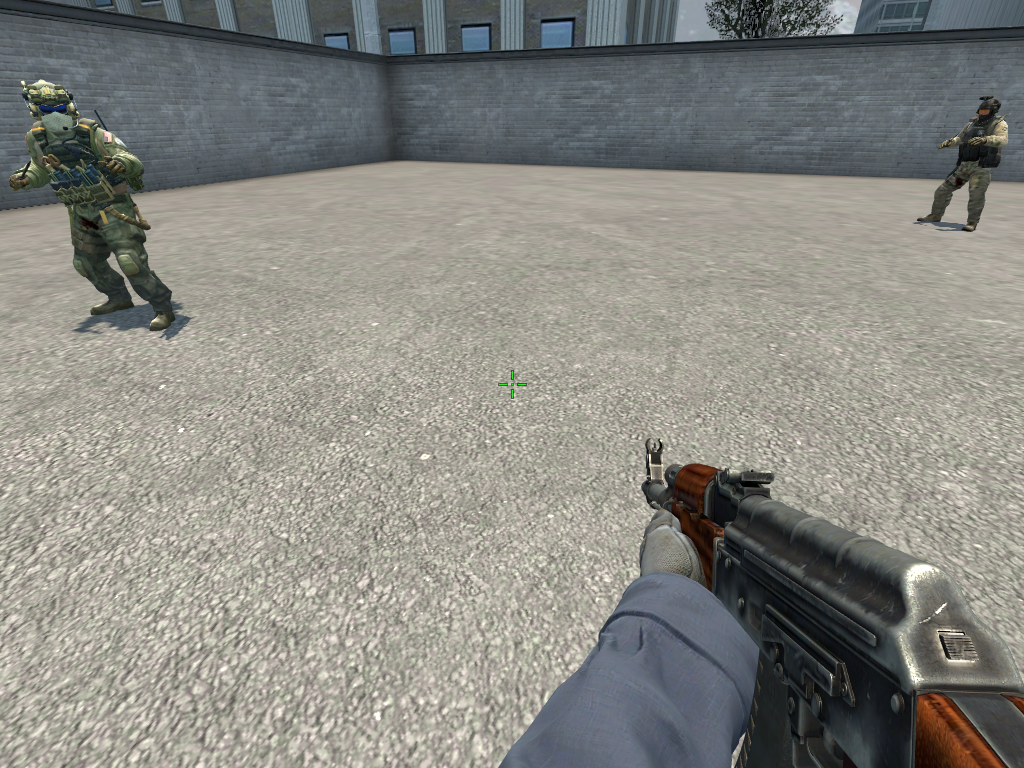ct head: (21, 80, 83, 135), (974, 96, 1001, 123)
